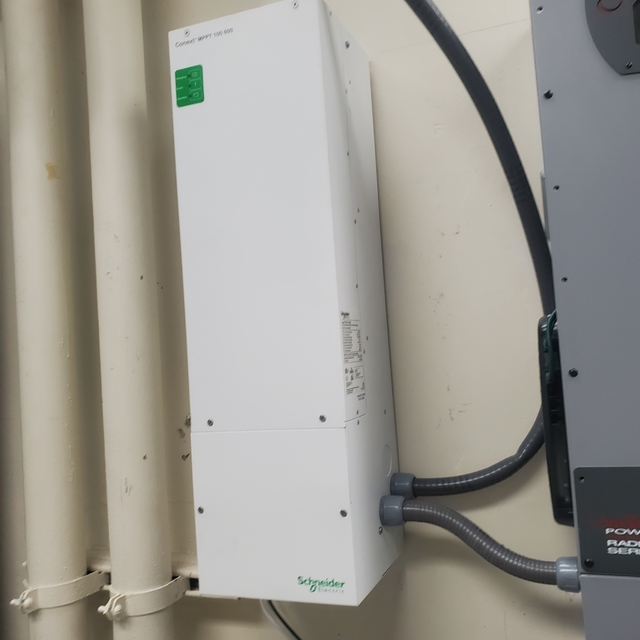charge_controller: (164, 1, 415, 610)
